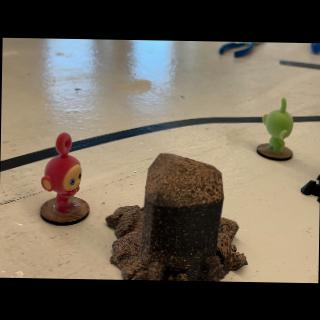teletubby: (40, 132, 81, 213), (262, 97, 293, 153)
